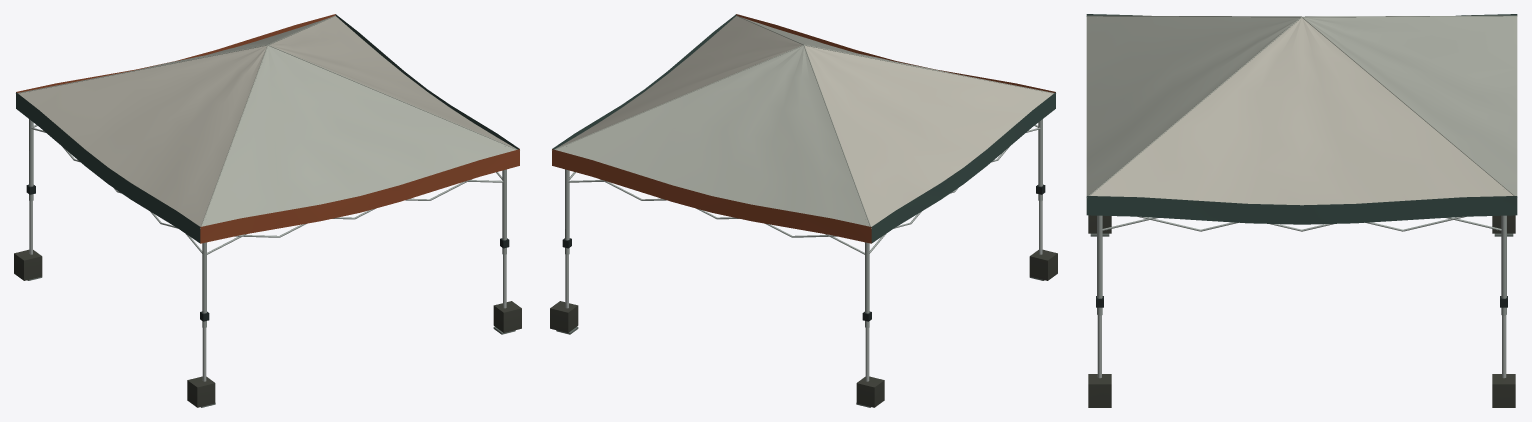
File: canopy-course.glb
3 views of the same model, side by side, from view 1: azimuth 30°, elevation 25°; view 2: azimuth 150°, elevation 25°; view 3: azimuth 270°, elevation 25° (orthographic). The views are drawn at different scales.
Parts seen in each view (by area): view 1: Tensioned sewn canopy roof panel.006, Tensioned sewn canopy roof panel.007, Tensioned sewn canopy roof panel.005, Hanging hemmed valance.006, Hanging hemmed valance.007, Hanging hemmed valance.004, Fabric-covered ballast weight.004, Fabric-covered ballast weight.005, Fabric-covered ballast weight.007, Hanging hemmed valance.005, Tensioned sewn canopy roof panel.004; view 2: Tensioned sewn canopy roof panel.004, Tensioned sewn canopy roof panel.007, Tensioned sewn canopy roof panel.005, Hanging hemmed valance.004, Hanging hemmed valance.007, Hanging hemmed valance.006, Fabric-covered ballast weight.005, Fabric-covered ballast weight.004, Fabric-covered ballast weight.006, Hanging hemmed valance.005, Tensioned sewn canopy roof panel.006; view 3: Tensioned sewn canopy roof panel.005, Tensioned sewn canopy roof panel.006, Tensioned sewn canopy roof panel.004, Hanging hemmed valance.005, Fabric-covered ballast weight.006, Fabric-covered ballast weight.007, Telescoping upper canopy leg.006, Telescoping upper canopy leg.007, Raised stitched hip seam.005, Raised stitched hip seam.006.
Boxes of the visible parts, box(x1,y1,x2,y2) form: Tensioned sewn canopy roof panel.006: box(202, 46, 516, 226); Tensioned sewn canopy roof panel.007: box(18, 45, 266, 226); Tensioned sewn canopy roof panel.005: box(269, 16, 515, 148); Hanging hemmed valance.006: box(200, 149, 519, 243); Hanging hemmed valance.007: box(16, 92, 200, 243); Hanging hemmed valance.004: box(16, 14, 335, 92); Fabric-covered ballast weight.004: box(14, 249, 42, 280); Fabric-covered ballast weight.005: box(187, 376, 215, 407); Fabric-covered ballast weight.007: box(493, 301, 521, 332); Hanging hemmed valance.005: box(335, 14, 519, 149); Tensioned sewn canopy roof panel.004: box(142, 18, 328, 68); Tensioned sewn canopy roof panel.004: box(555, 46, 869, 226); Tensioned sewn canopy roof panel.007: box(805, 45, 1053, 226); Tensioned sewn canopy roof panel.005: box(556, 16, 802, 148); Hanging hemmed valance.004: box(552, 149, 871, 243); Hanging hemmed valance.007: box(871, 92, 1055, 243); Hanging hemmed valance.006: box(736, 14, 1055, 92); Fabric-covered ballast weight.005: box(1029, 249, 1057, 280); Fabric-covered ballast weight.004: box(856, 376, 884, 407); Fabric-covered ballast weight.006: box(550, 301, 578, 332); Hanging hemmed valance.005: box(552, 14, 736, 149); Tensioned sewn canopy roof panel.006: box(742, 17, 951, 73); Tensioned sewn canopy roof panel.005: box(1090, 18, 1513, 205); Tensioned sewn canopy roof panel.006: box(1086, 16, 1300, 195); Tensioned sewn canopy roof panel.004: box(1303, 16, 1517, 195); Hanging hemmed valance.005: box(1086, 196, 1517, 224); Fabric-covered ballast weight.006: box(1492, 374, 1515, 407); Fabric-covered ballast weight.007: box(1088, 374, 1111, 407); Telescoping upper canopy leg.006: box(1501, 215, 1506, 315); Telescoping upper canopy leg.007: box(1097, 215, 1102, 315); Raised stitched hip seam.005: box(1302, 16, 1517, 197); Raised stitched hip seam.006: box(1086, 16, 1301, 197).
Size of the model in its own units: 4.67 by 3.56 by 4.61.
